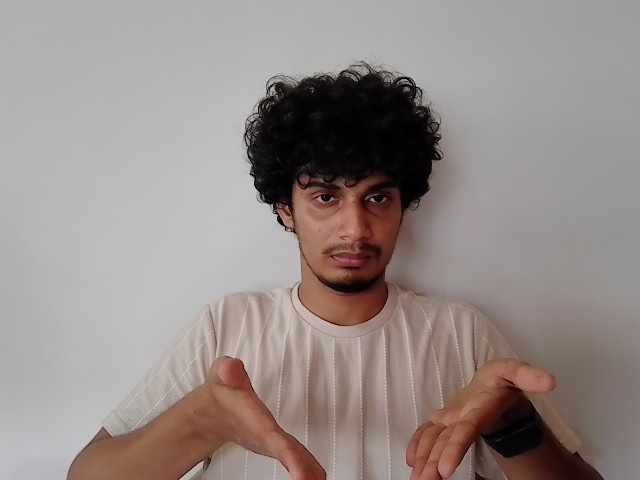here: (209, 354, 560, 480)
